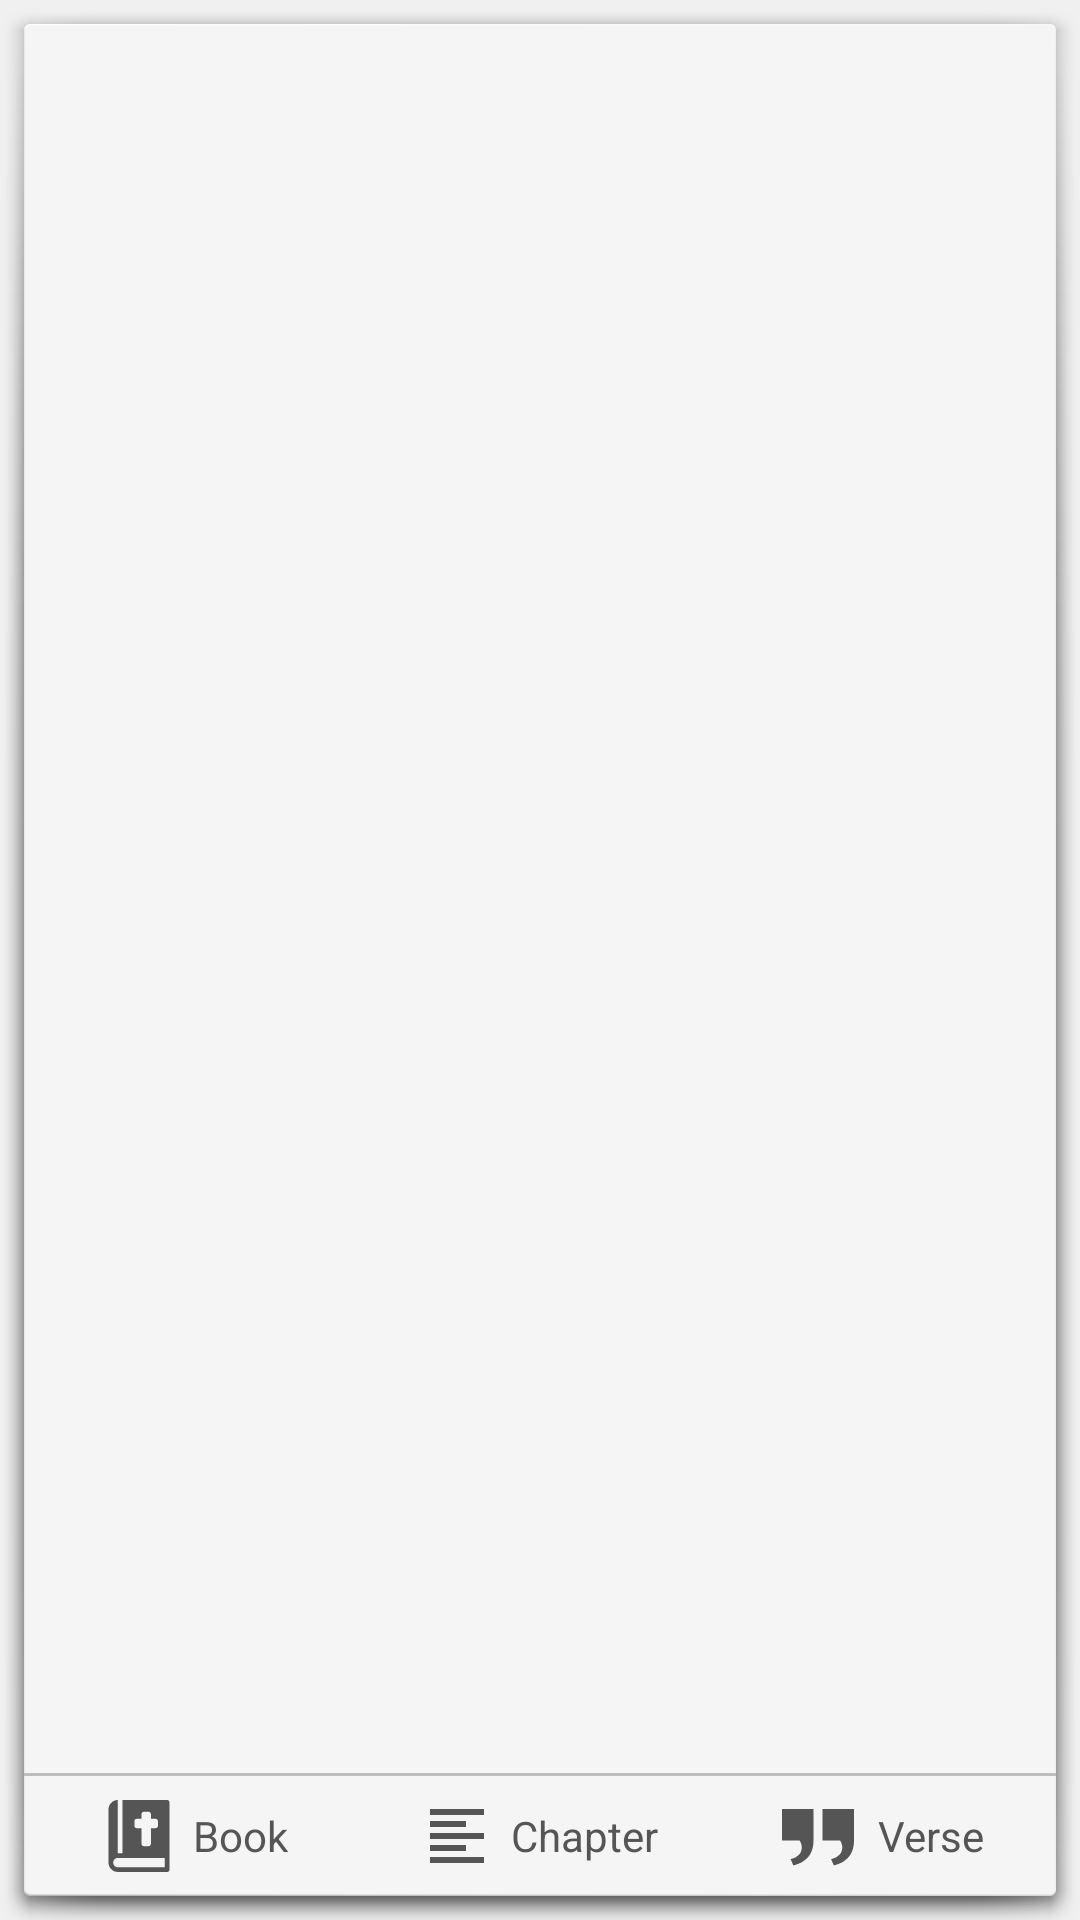

Screen size 1080px×1920px. Icon name, then its center in pixels as (x=x, y=y):
bible: (x=139, y=1836)
